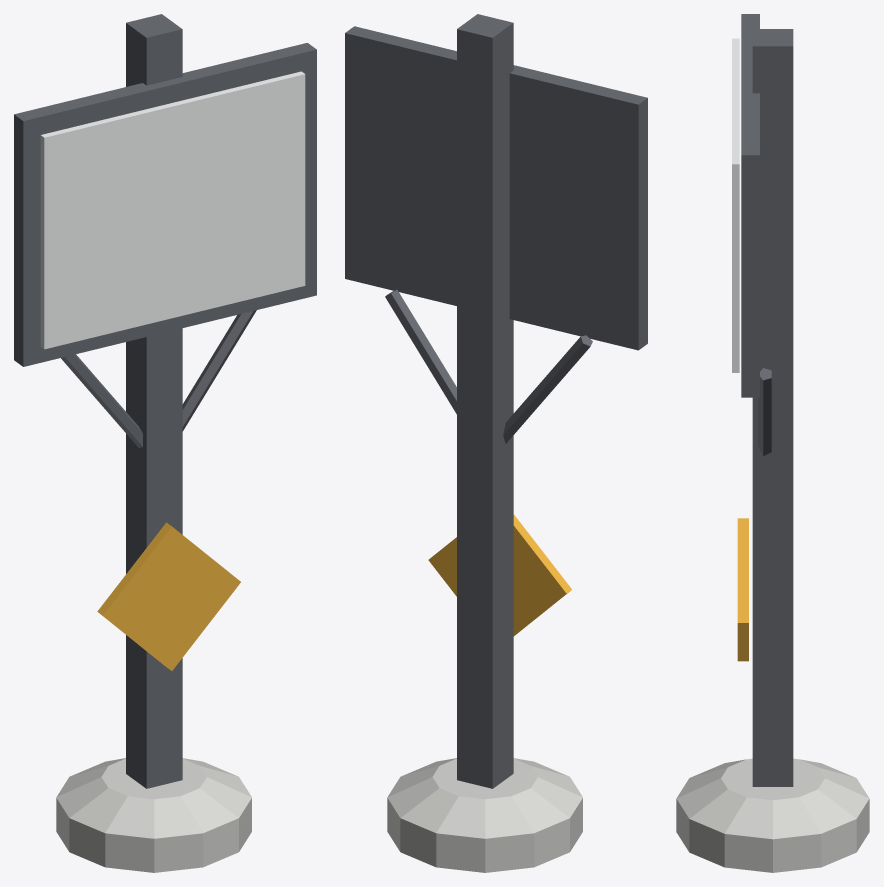
The model's file is modern-rail-and-metro-network-speed-board-52c887c5__13715.glb.
3 views of the same model, side by side, from view 1: azimuth 30°, elevation 25°; view 2: azimuth 150°, elevation 25°; view 3: azimuth 270°, elevation 25° (orthographic).
Visible parts, largest first — view 1: speed-board; view 2: speed-board; view 3: speed-board.
Part boxes in pixels (x1,y1,x2,y2): speed-board: (14, 14, 316, 872); speed-board: (345, 14, 647, 872); speed-board: (676, 14, 869, 872).
Size of the model in its own units: 0.9 by 2.36 by 0.52.
